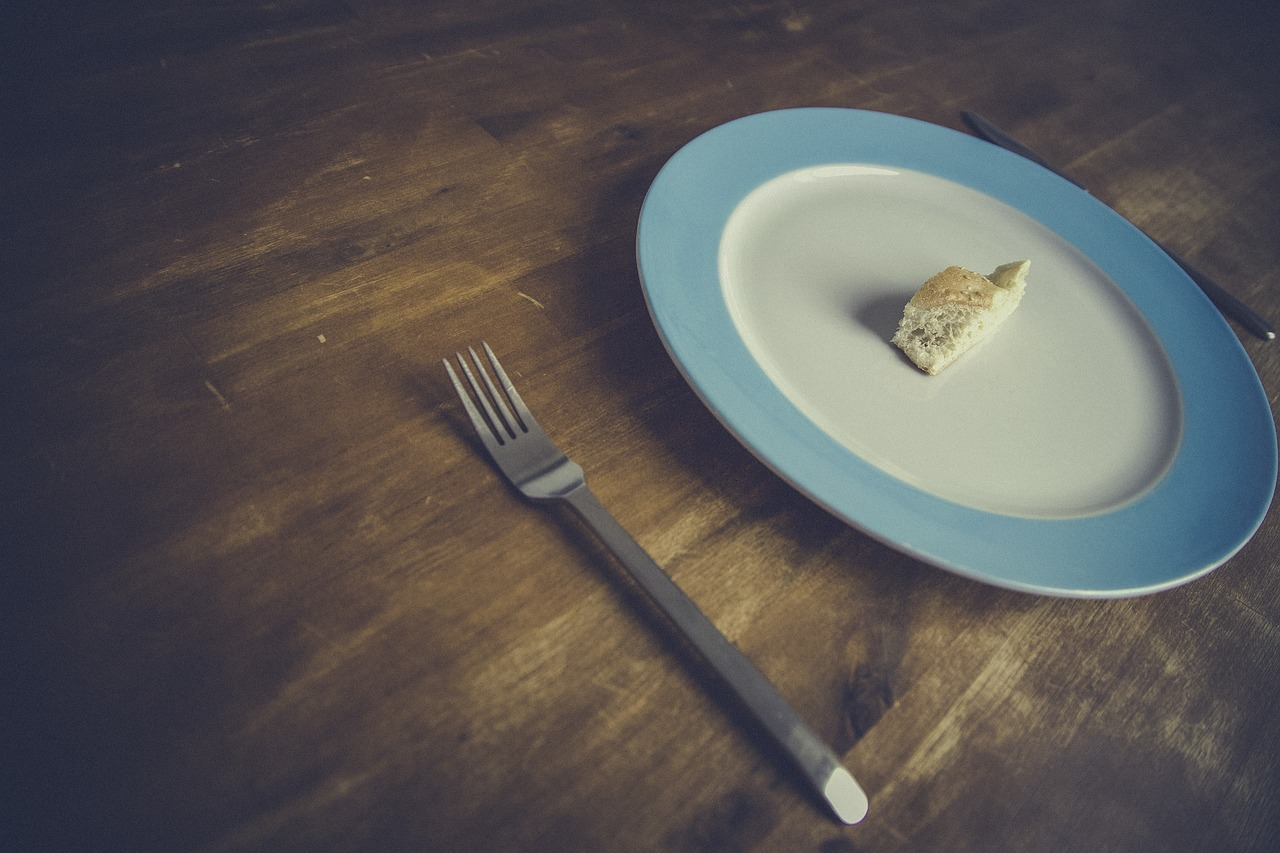knife: (960, 99, 1280, 344)
